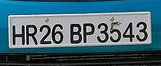2: (39, 24, 52, 44)
3: (96, 22, 110, 43), (136, 21, 149, 42)
4: (122, 21, 136, 43)
5: (109, 21, 122, 43)
6: (51, 23, 65, 45)
B: (70, 22, 83, 45)
H: (11, 24, 26, 45)
P: (82, 22, 95, 43)
R: (25, 24, 39, 46)
